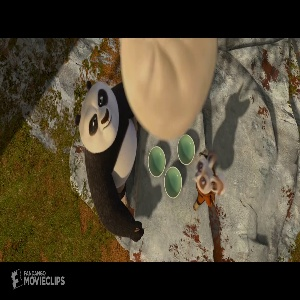po: (71, 77, 150, 245)
shifu: (192, 149, 226, 210)
